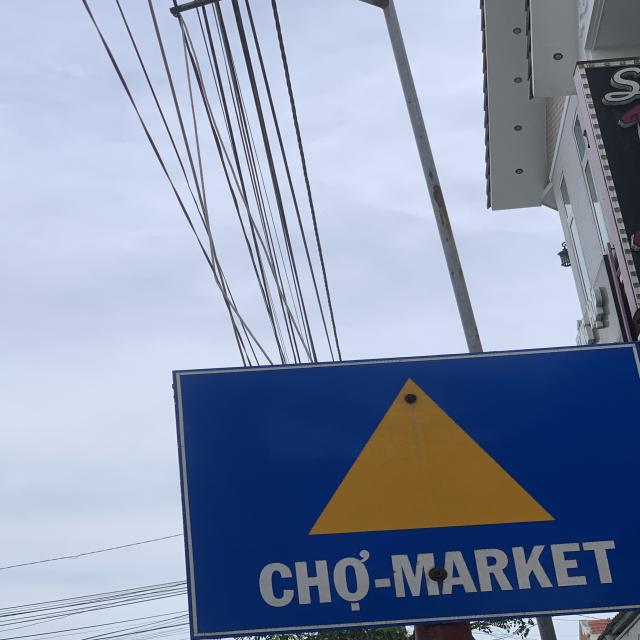Cho_Quay_Xe: (179, 349, 640, 613)
